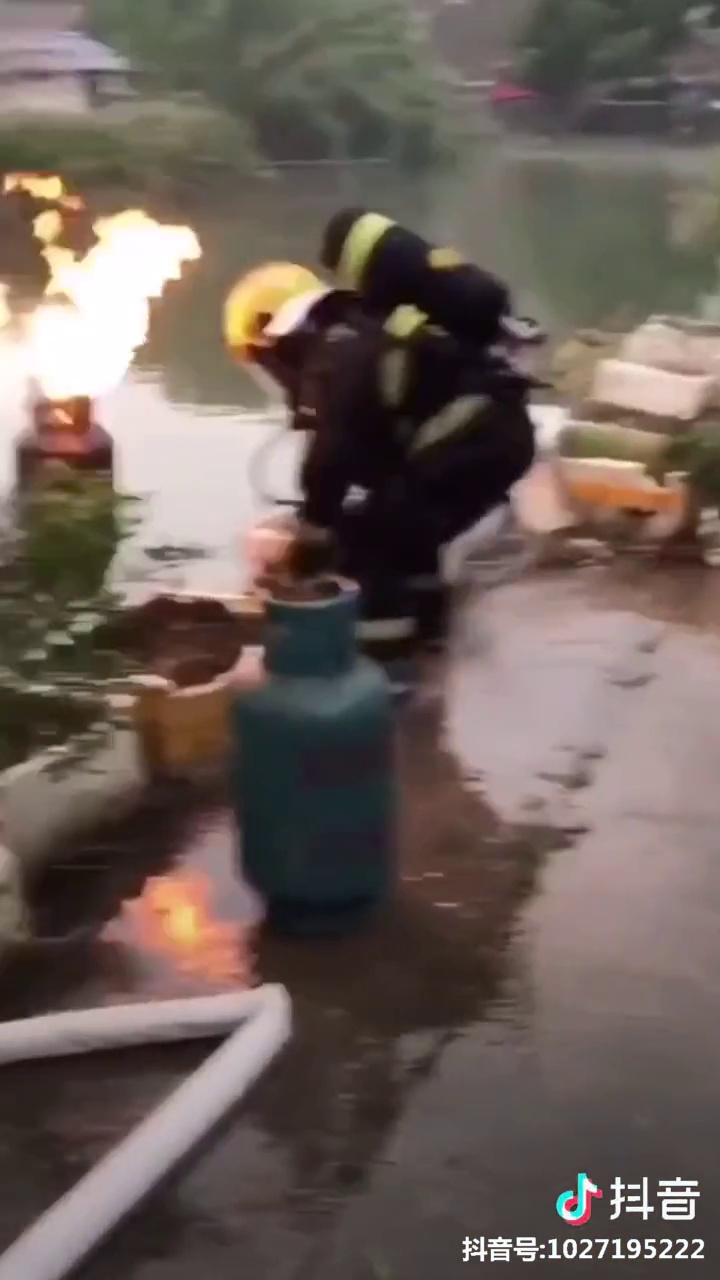fire: (35, 214, 186, 410)
